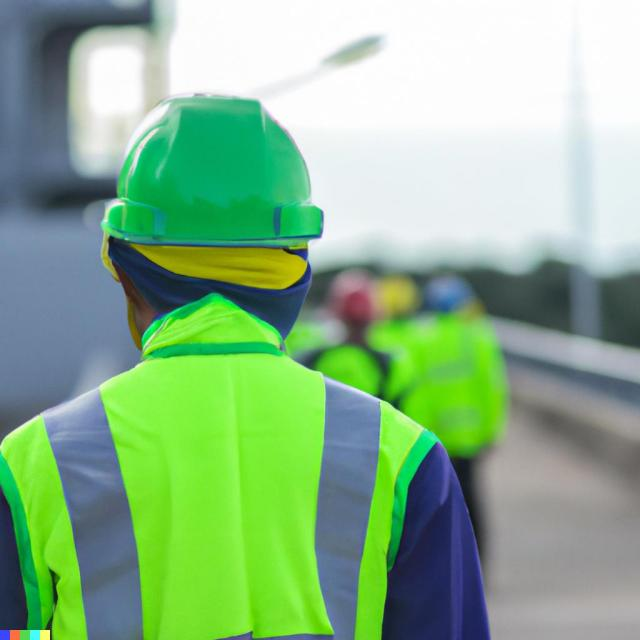Reflective-Jacket: (0, 342, 446, 640)
Safety-Helmet: (101, 87, 330, 269)
